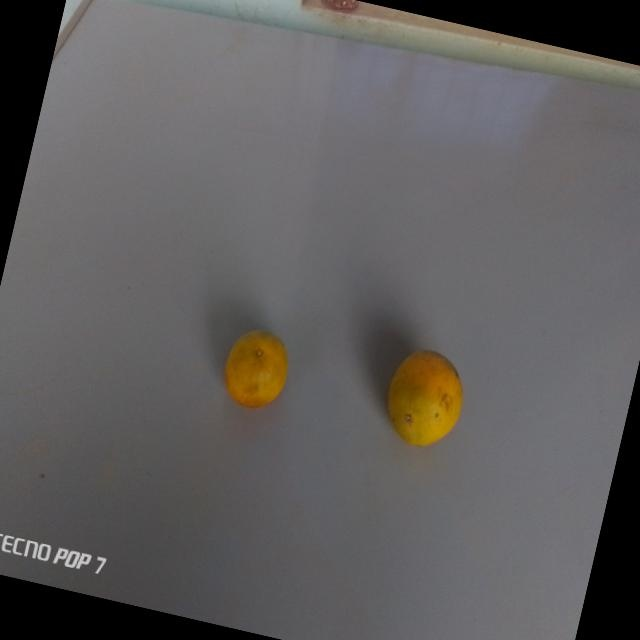agrume: (357, 334, 482, 462), (206, 315, 303, 420)
